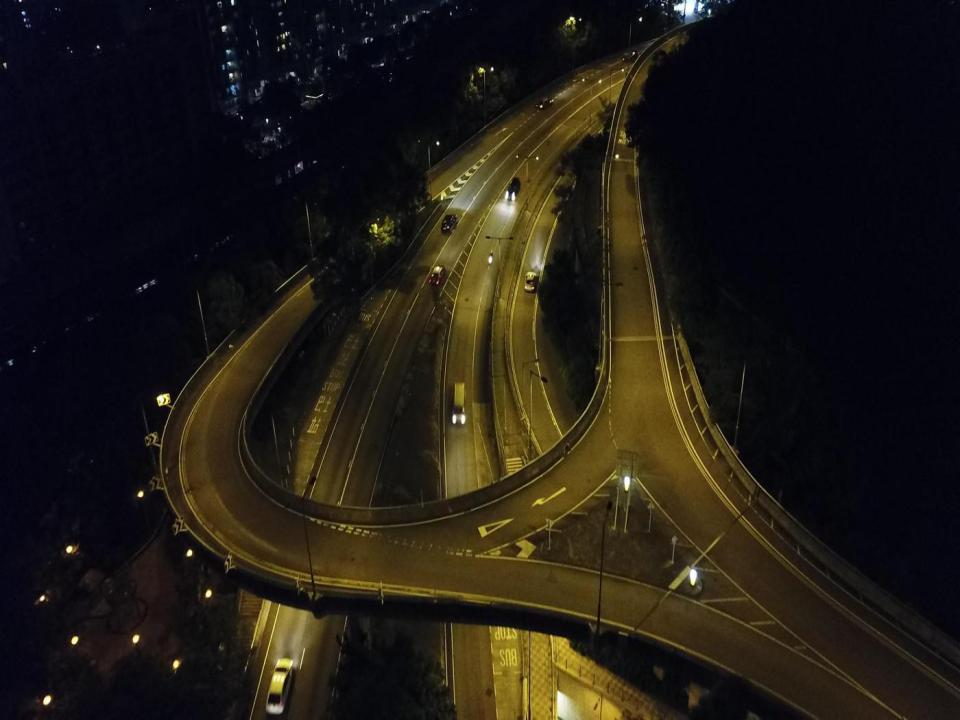car: (265, 657, 294, 715), (428, 264, 447, 286), (505, 175, 521, 201), (440, 213, 458, 232), (523, 270, 537, 292), (535, 96, 553, 109)
van: (452, 380, 466, 425)
